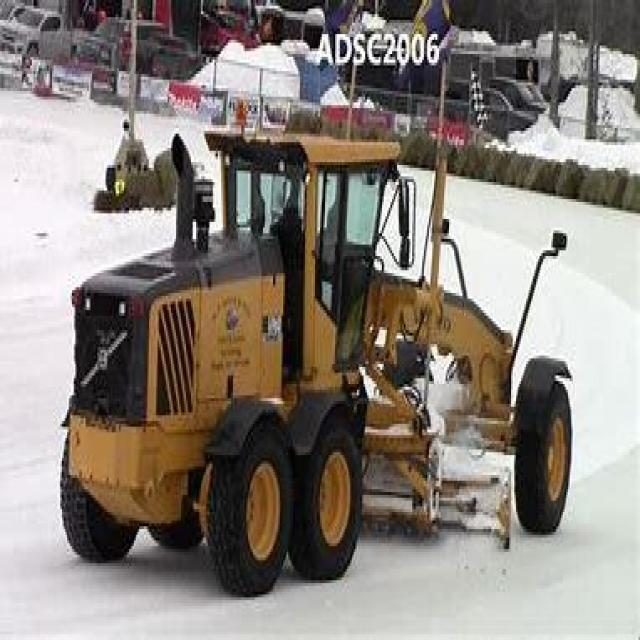Grader: (42, 111, 585, 606)
